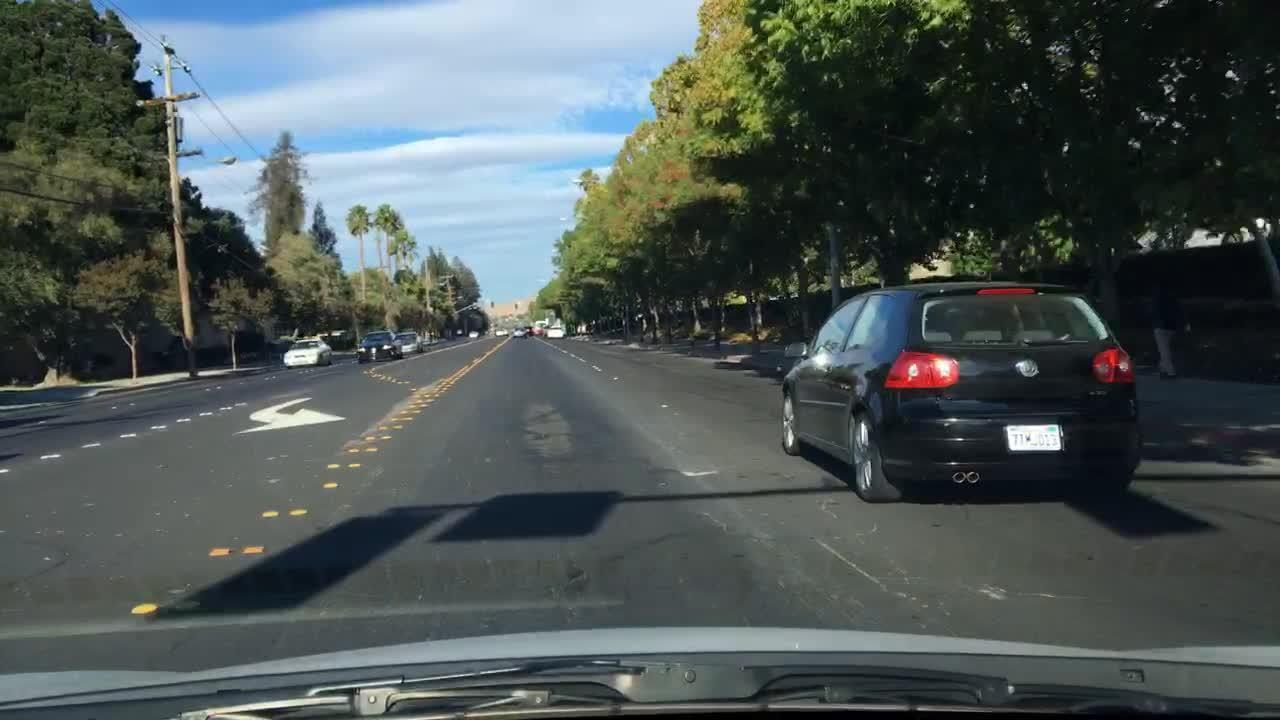Volkswagen: (1007, 352, 1045, 385)
